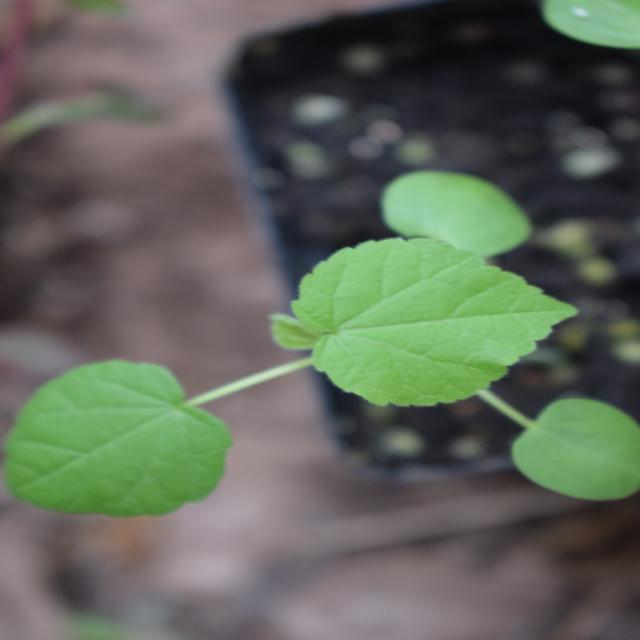abutilon theophrasti: (94, 0, 470, 619)
